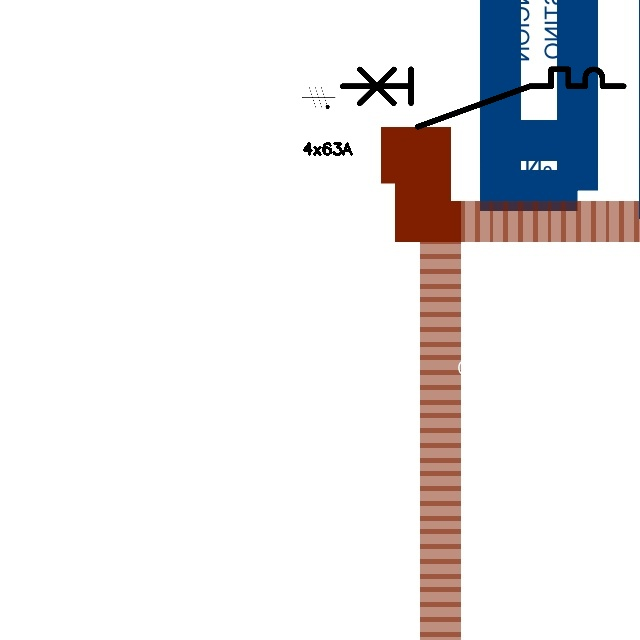interruptor_termomagnetico: (335, 62, 630, 134)
